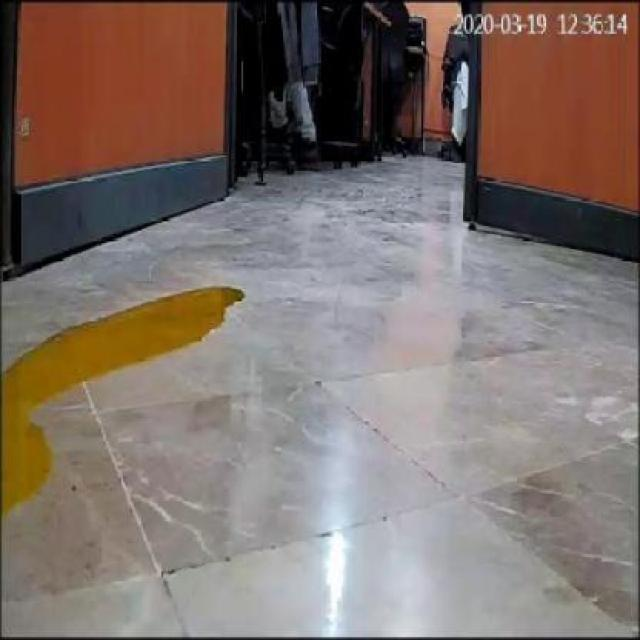spillage: (2, 287, 244, 512)
